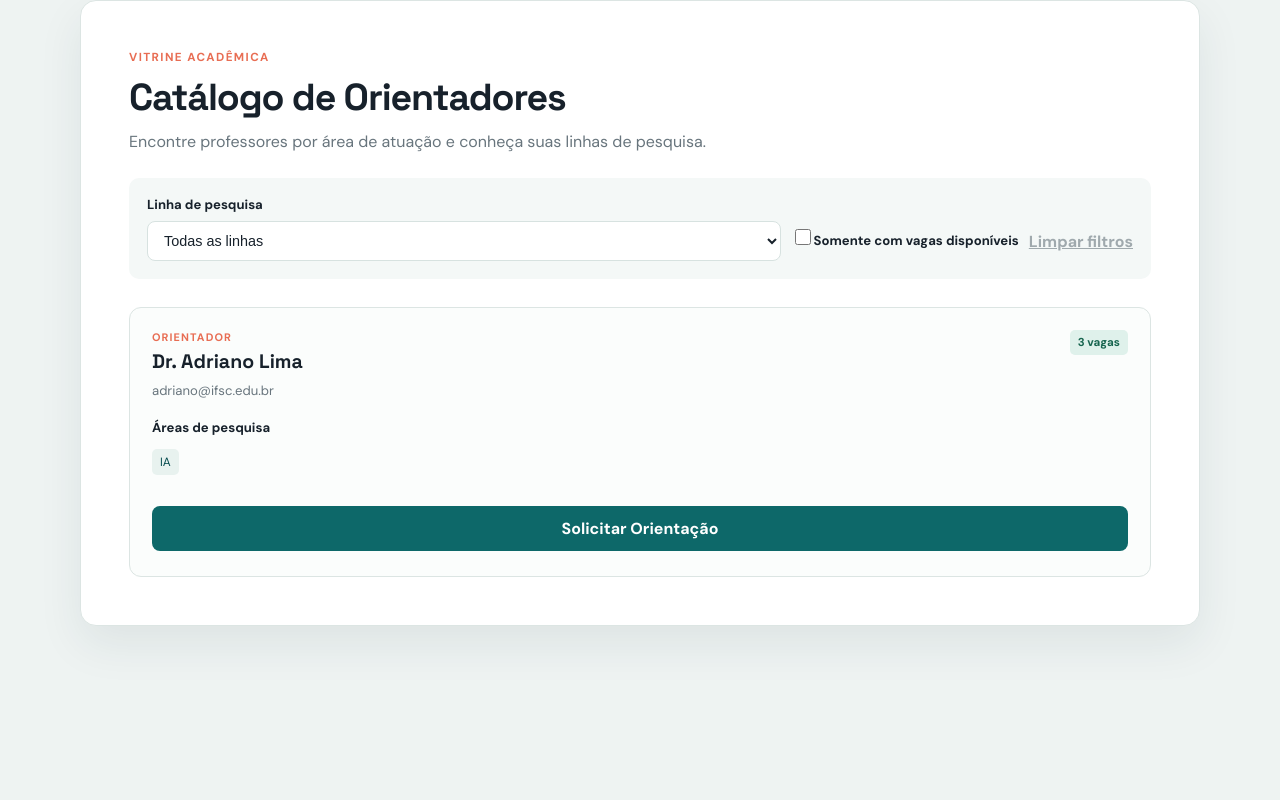
Test: OrientadorList › deve limpar os filtros a partir do botão exibido no estado vazio
This screenshot has width=1280, height=800.
Select "IA" in the dropdown labelled "Linha de pesquisa" at coordinates (464, 241), box [147, 221, 781, 261]
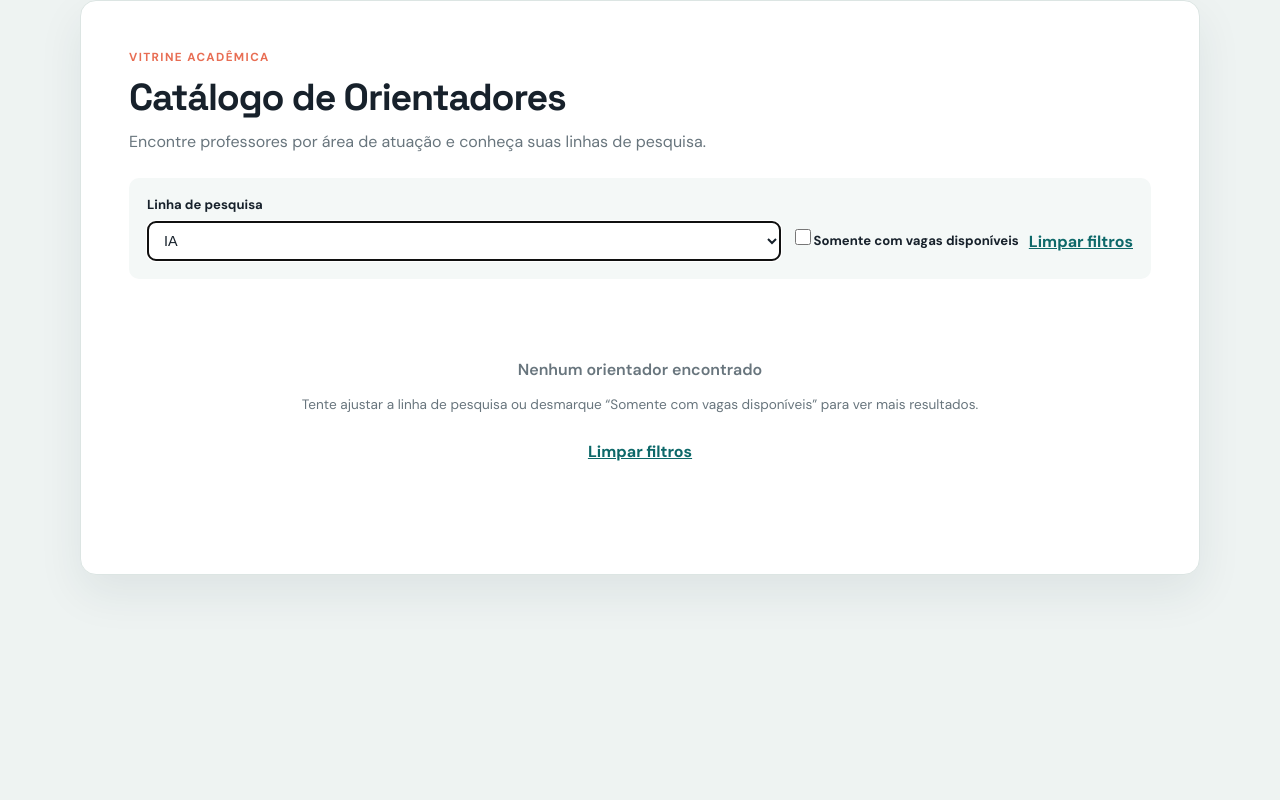
Now the text "Tente ajustar a linha de pesquisa" is shown, box [302, 396, 978, 413]
Click the button "Limpar filtros" below "Nenhum orientador encontrado".
click(640, 451)  # box [588, 441, 692, 462]
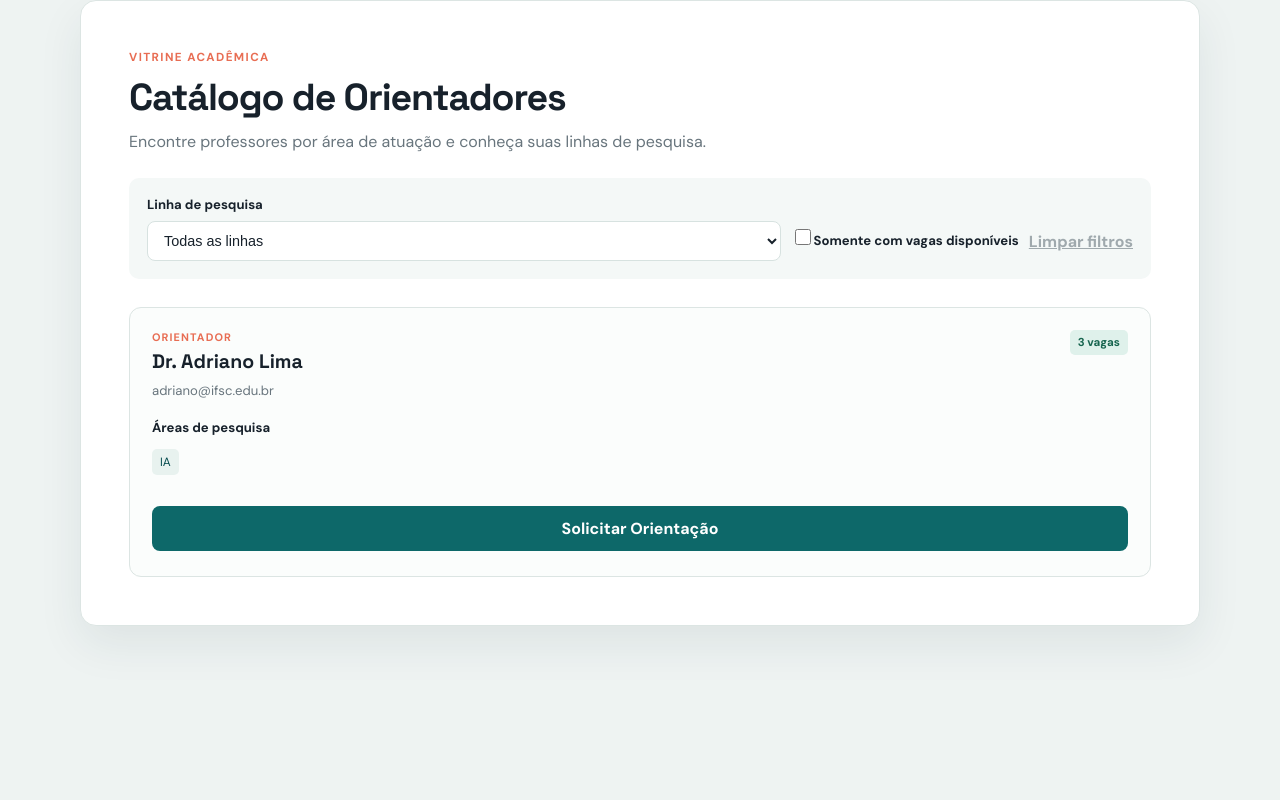
Now the heading "Dr. Adriano Lima" is shown, box [152, 349, 303, 374]
